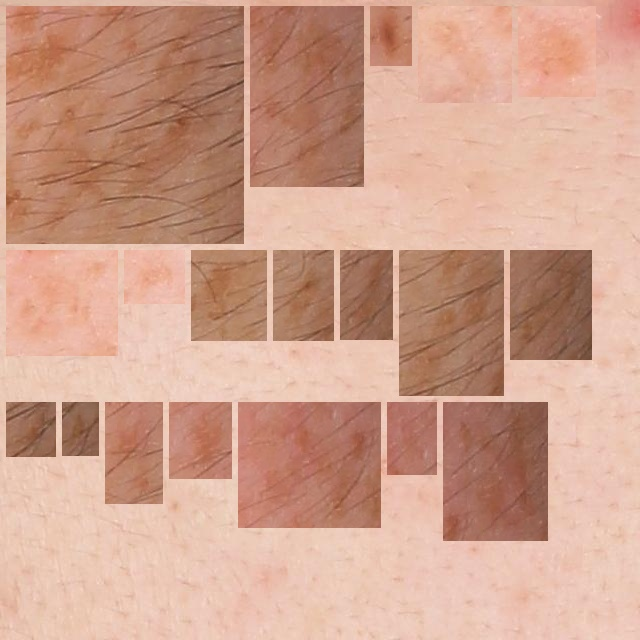melasma: (14, 14, 236, 236), (258, 14, 356, 179), (246, 410, 373, 520), (407, 258, 496, 388), (451, 410, 540, 533), (14, 258, 110, 348), (426, 14, 504, 95), (518, 258, 584, 352), (526, 14, 588, 89), (199, 258, 259, 333), (113, 410, 155, 496), (281, 258, 326, 333), (177, 410, 224, 471), (348, 258, 385, 332), (395, 410, 429, 467), (132, 258, 177, 296), (14, 410, 48, 449), (378, 14, 404, 58), (70, 410, 91, 448)
